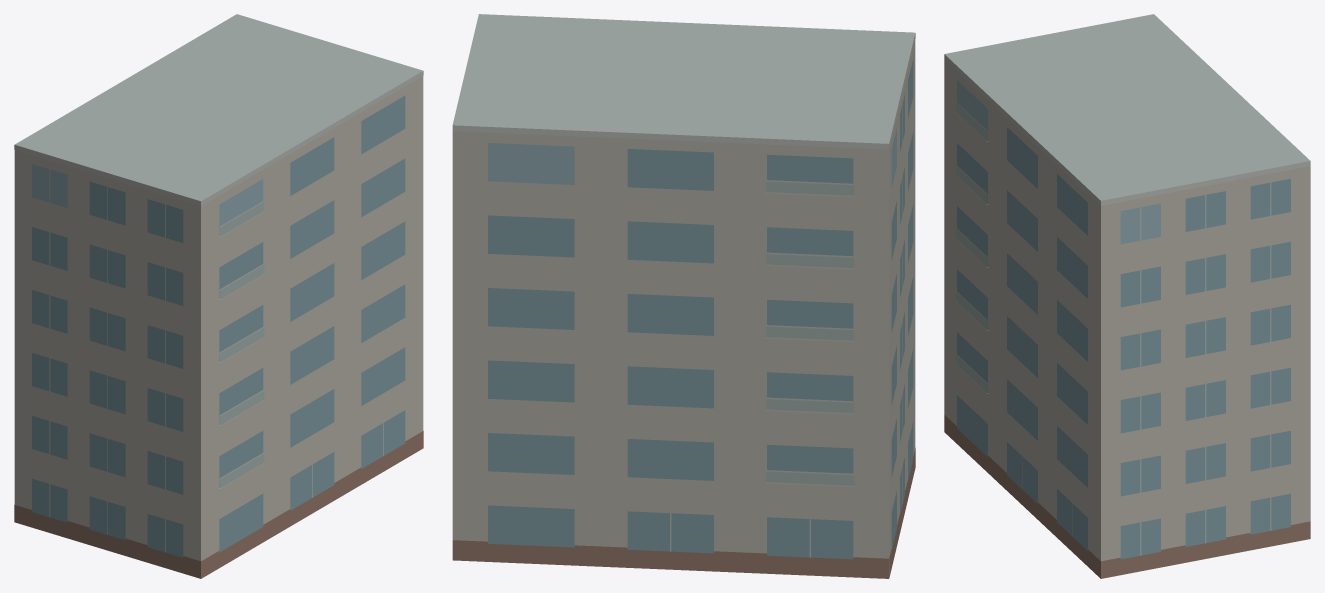
Rendered from survey-upis-32553304.glb.
3 renders of one model, left to right at view 1: azimuth 30°, elevation 25°; view 2: azimuth 150°, elevation 25°; view 3: azimuth 270°, elevation 25°, orthographic. The views are drawn at different scales.
Parts seen in each view (by area): view 1: survey-upis-32553304.tmp; view 2: survey-upis-32553304.tmp; view 3: survey-upis-32553304.tmp.
Part boxes in pixels (x1,y1,x2,y2): survey-upis-32553304.tmp: [14, 14, 423, 578]; survey-upis-32553304.tmp: [452, 14, 915, 578]; survey-upis-32553304.tmp: [944, 14, 1310, 578].
Bounding box in the file's own units: 19.41 × 18.3 × 16.08.
